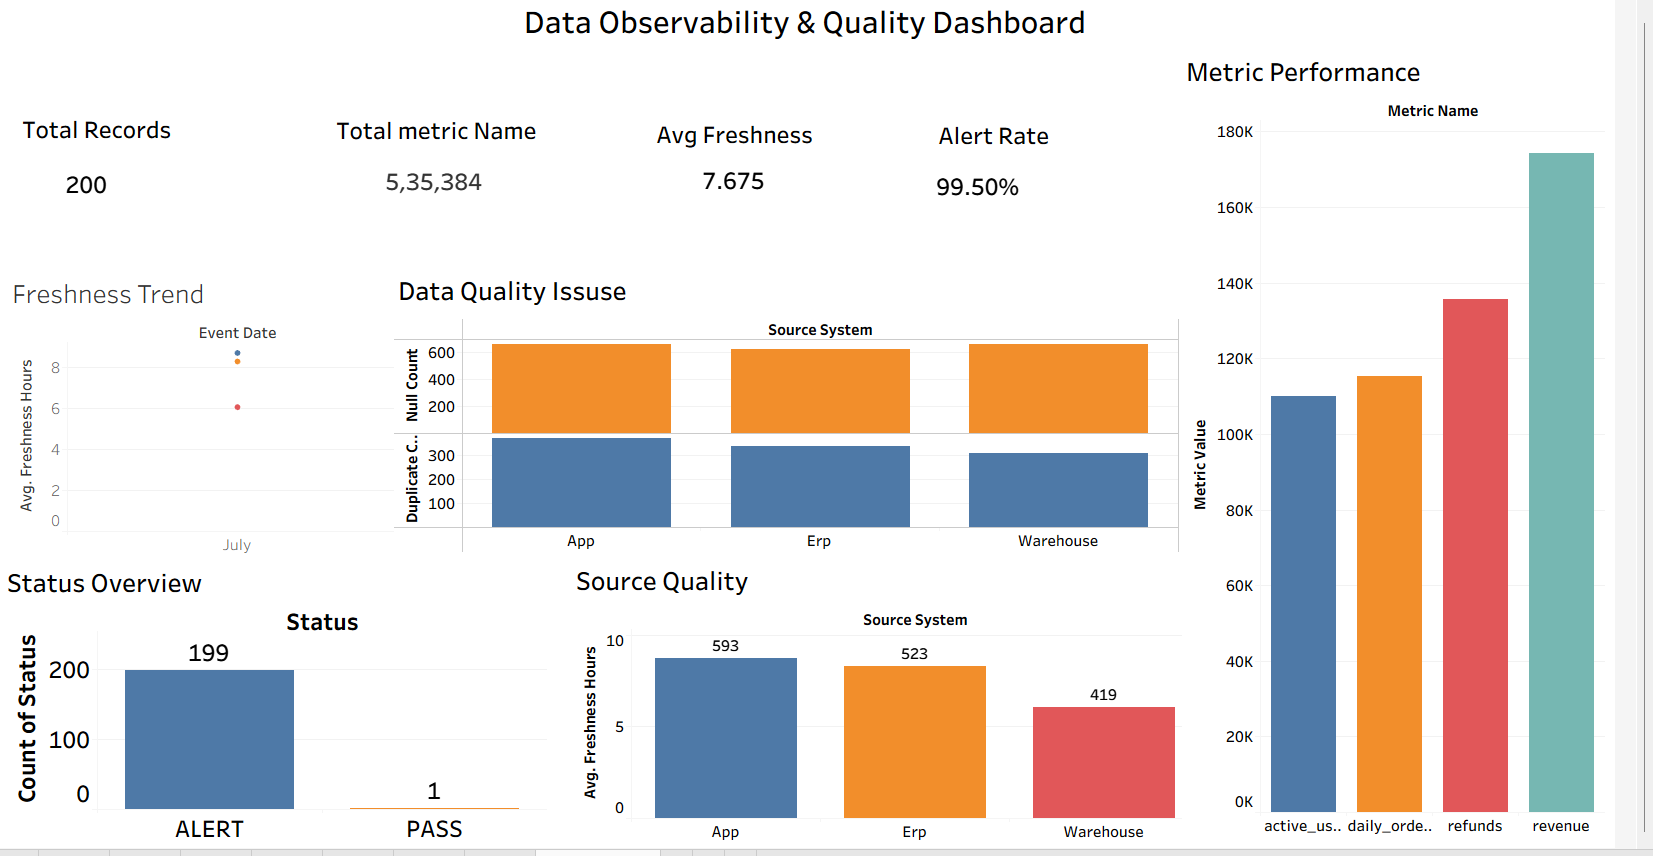

This screenshot's page, from the dashboard's own definition file:
{"tool":"tableau","page":{"name":"Dashboard 1","canvas":[1620,860],"ordinal":0},"visuals":[{"type":"title","box":[8,8,1604,49]},{"type":"worksheet","title":"Sheet 5","mark":"Automatic","rows":["metric_value"],"cols":["metric_name"],"box":[1187,62,423,787]},{"type":"text","box":[24,125,156,32]},{"type":"text","box":[338,126,207,32]},{"type":"text","box":[658,130,164,32]},{"type":"text","box":[940,131,118,32]},{"type":"worksheet","title":"Sheet 3","mark":"Automatic","box":[694,176,123,55]},{"type":"worksheet","title":"Sheet 2","mark":"Automatic","box":[371,177,124,72]},{"type":"worksheet","title":"Sheet 1","mark":"Automatic","box":[56,180,90,48]},{"type":"worksheet","title":"Sheet 4","mark":"Automatic","box":[928,182,205,49]},{"type":"worksheet","title":"Sheet 7","mark":"Automatic","rows":["null_count","duplicate_count"],"cols":["source_system"],"box":[399,281,785,284]},{"type":"worksheet","title":"Sheet 8","mark":"Line","rows":["freshness_hours"],"cols":["event_date"],"box":[13,284,399,284]},{"type":"worksheet","title":"Sheet 6","mark":"Automatic","rows":["freshness_hours"],"cols":["source_system"],"box":[577,571,627,284]},{"type":"worksheet","title":"Sheet 9","mark":"Automatic","rows":["status"],"cols":["status"],"box":[8,573,544,284]}]}

Visuals, with their boxes in screenshot pixels (x1, y1, x2, y2), scaled from the page's 1620x860 canvas onto the 1653x856 screenshot:
title: crop(8, 8, 1645, 57)
"Sheet 5" worksheet: crop(1211, 62, 1643, 845)
text: crop(24, 124, 184, 156)
text: crop(345, 125, 556, 157)
text: crop(671, 129, 839, 161)
text: crop(959, 130, 1080, 162)
"Sheet 3" worksheet: crop(708, 175, 834, 230)
"Sheet 2" worksheet: crop(379, 176, 505, 248)
"Sheet 1" worksheet: crop(57, 179, 149, 227)
"Sheet 4" worksheet: crop(947, 181, 1156, 230)
"Sheet 7" worksheet: crop(407, 280, 1208, 562)
"Sheet 8" worksheet (Line marks): crop(13, 283, 420, 565)
"Sheet 6" worksheet: crop(589, 568, 1229, 851)
"Sheet 9" worksheet: crop(8, 570, 563, 853)
